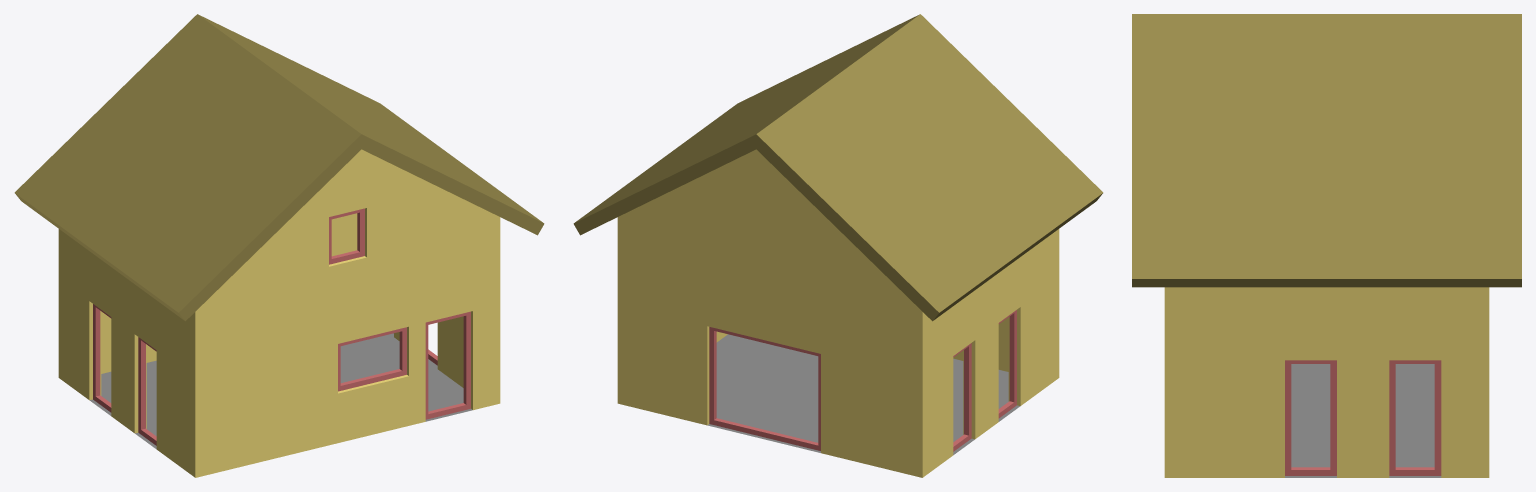
The model's file is result.glb.
3 renders of one model, left to right at view 1: azimuth 30°, elevation 25°; view 2: azimuth 150°, elevation 25°; view 3: azimuth 270°, elevation 25°, orthographic. The views are drawn at different scales.
Visible parts, largest first — view 1: ffb4a9a5-d85b-4baa-b61e-434c0ac719a0__undefined, 90918bb4-e14a-43b1-9c9e-883386cac453__undefined (×2), 5351f2ea-a66e-46f4-9e9e-5fb4697c44ff__Plane_12, cc4ca54d-16b3-433c-973b-b1ccfd74de4b__Box, 511ee22c-1c64-43c7-a564-8a02b2ebbc66__Box_3, b0c10395-359c-4bd7-9e80-c00322782d3c__Box_12, 3a876709-7bbe-4253-9319-8286c3ac3579__Box_15, c383216d-dd44-4499-a806-074bb34d70e5__Box_6; view 2: ffb4a9a5-d85b-4baa-b61e-434c0ac719a0__undefined, 90918bb4-e14a-43b1-9c9e-883386cac453__undefined (×2), 5351f2ea-a66e-46f4-9e9e-5fb4697c44ff__Plane_12, 2590e598-f2df-4293-83c0-9cf849796889__Box_9, b0c10395-359c-4bd7-9e80-c00322782d3c__Box_12, 3a876709-7bbe-4253-9319-8286c3ac3579__Box_15; view 3: 90918bb4-e14a-43b1-9c9e-883386cac453__undefined, ffb4a9a5-d85b-4baa-b61e-434c0ac719a0__undefined, 5351f2ea-a66e-46f4-9e9e-5fb4697c44ff__Plane_12, 5dae3a94-acab-49c4-81e2-d72056a5b131__Box_27, 06f48130-6b51-439a-bb67-ac05a5ef42cf__Box_24.
Boxes of the visible parts, box(x1,y1,x2,y2) form: ffb4a9a5-d85b-4baa-b61e-434c0ac719a0__undefined: box(58, 149, 500, 477); 90918bb4-e14a-43b1-9c9e-883386cac453__undefined (×2): box(14, 14, 544, 321); 5351f2ea-a66e-46f4-9e9e-5fb4697c44ff__Plane_12: box(90, 333, 472, 449); cc4ca54d-16b3-433c-973b-b1ccfd74de4b__Box: box(425, 311, 470, 419); 511ee22c-1c64-43c7-a564-8a02b2ebbc66__Box_3: box(338, 327, 406, 391); b0c10395-359c-4bd7-9e80-c00322782d3c__Box_12: box(138, 337, 156, 445); 3a876709-7bbe-4253-9319-8286c3ac3579__Box_15: box(93, 304, 111, 412); c383216d-dd44-4499-a806-074bb34d70e5__Box_6: box(329, 208, 364, 264); ffb4a9a5-d85b-4baa-b61e-434c0ac719a0__undefined: box(617, 149, 1059, 477); 90918bb4-e14a-43b1-9c9e-883386cac453__undefined (×2): box(573, 14, 1103, 321); 5351f2ea-a66e-46f4-9e9e-5fb4697c44ff__Plane_12: box(707, 334, 1020, 454); 2590e598-f2df-4293-83c0-9cf849796889__Box_9: box(709, 327, 820, 450); b0c10395-359c-4bd7-9e80-c00322782d3c__Box_12: box(998, 310, 1016, 418); 3a876709-7bbe-4253-9319-8286c3ac3579__Box_15: box(953, 343, 971, 451); 90918bb4-e14a-43b1-9c9e-883386cac453__undefined: box(1132, 14, 1521, 287); ffb4a9a5-d85b-4baa-b61e-434c0ac719a0__undefined: box(1164, 287, 1489, 477); 5351f2ea-a66e-46f4-9e9e-5fb4697c44ff__Plane_12: box(1285, 364, 1441, 477); 5dae3a94-acab-49c4-81e2-d72056a5b131__Box_27: box(1389, 360, 1441, 475); 06f48130-6b51-439a-bb67-ac05a5ef42cf__Box_24: box(1285, 360, 1336, 475).
Size of the model in its own units: 772 by 638 by 600.
